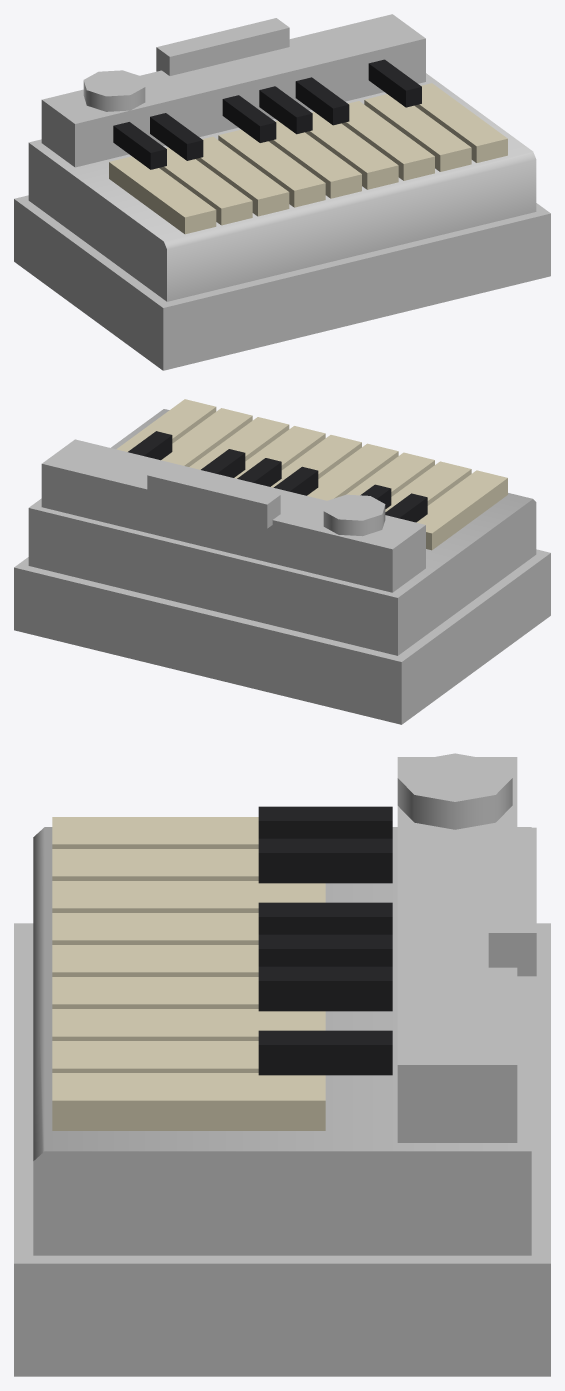
File: baby_piano.obj
3 views of the same model, one above another, from view 1: azimuth 30°, elevation 25°; view 2: azimuth 150°, elevation 25°; view 3: azimuth 270°, elevation 25° (orthographic). The views are drawn at different scales.
Parts seen in each view (by area): view 1: source_component_000, source_component_001, source_component_017, source_component_019, source_component_002, source_component_005, source_component_009, source_component_004, source_component_008, source_component_010, source_component_007, source_component_006 (+8 smaller); view 2: source_component_000, source_component_001, source_component_017, source_component_019, source_component_002, source_component_009, source_component_005, source_component_018, source_component_008, source_component_010, source_component_007, source_component_006 (+8 smaller); view 3: source_component_000, source_component_001, source_component_017, source_component_010, source_component_004, source_component_008, source_component_018, source_component_019, source_component_002, source_component_003, source_component_005, source_component_006 (+8 smaller).
Boxes of the visible parts, x1,y1,x2,y2 form: source_component_000: (14, 195, 550, 370); source_component_001: (28, 73, 536, 301); source_component_017: (41, 14, 425, 167); source_component_019: (156, 18, 289, 75); source_component_002: (109, 156, 216, 234); source_component_005: (218, 129, 325, 207); source_component_009: (364, 94, 471, 171); source_component_004: (196, 136, 289, 216); source_component_008: (341, 101, 434, 180); source_component_010: (414, 83, 507, 162); source_component_007: (305, 112, 398, 189); source_component_006: (268, 120, 361, 198); source_component_000: (14, 549, 550, 724); source_component_001: (28, 409, 536, 655); source_component_017: (41, 439, 425, 592); source_component_019: (147, 465, 280, 528); source_component_002: (416, 470, 507, 550); source_component_009: (161, 408, 252, 466); source_component_005: (307, 443, 398, 500); source_component_018: (323, 494, 385, 536); source_component_008: (189, 417, 289, 469); source_component_010: (116, 399, 216, 451); source_component_007: (234, 426, 325, 478); source_component_006: (271, 435, 361, 487); source_component_000: (14, 923, 550, 1376); source_component_001: (33, 827, 531, 1255); source_component_017: (397, 757, 517, 1142); source_component_010: (52, 1073, 325, 1130); source_component_004: (52, 881, 325, 912); source_component_008: (52, 1009, 325, 1040); source_component_018: (397, 753, 512, 829); source_component_019: (488, 827, 536, 976); source_component_002: (52, 817, 258, 848); source_component_003: (52, 849, 258, 880); source_component_005: (52, 913, 258, 944); source_component_006: (52, 945, 258, 976).
Bounding box in the file's own units: 0.84 × 0.38 × 0.56.
